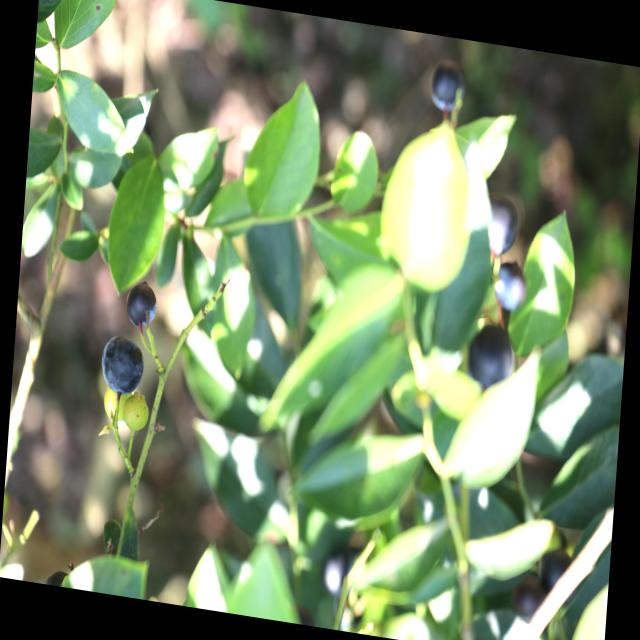blueberry: (95, 326, 149, 401), (465, 318, 516, 392), (478, 197, 522, 262), (424, 58, 468, 116), (124, 274, 162, 337), (489, 262, 528, 316)
blueberry-unripe: (99, 382, 130, 429), (124, 390, 152, 434)
